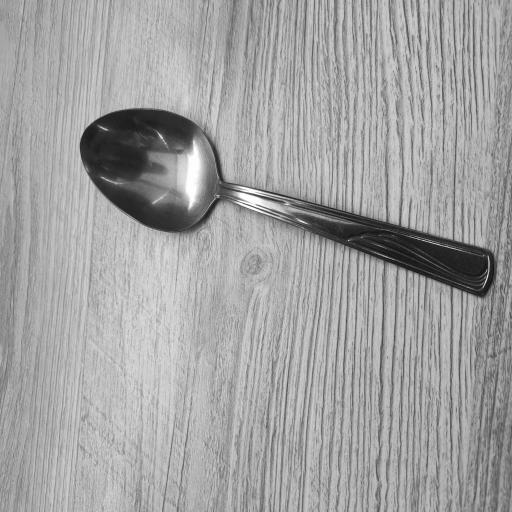spoon: (78, 106, 494, 302)
